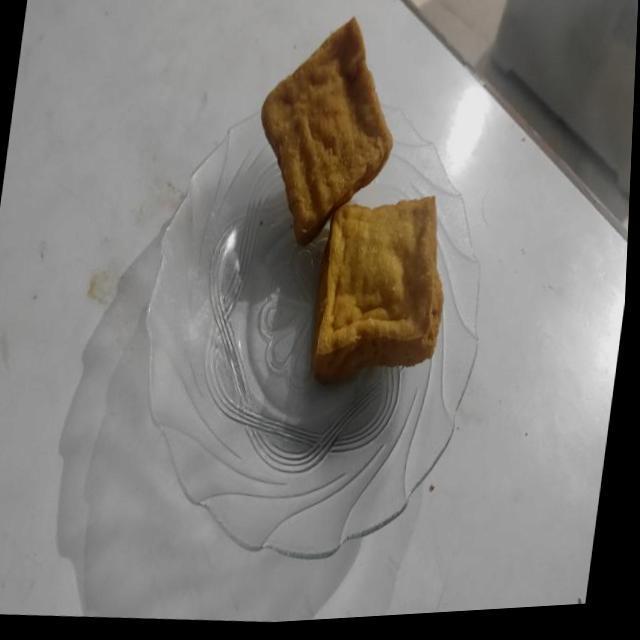tahu_goreng: (261, 17, 392, 245), (312, 196, 442, 382)
